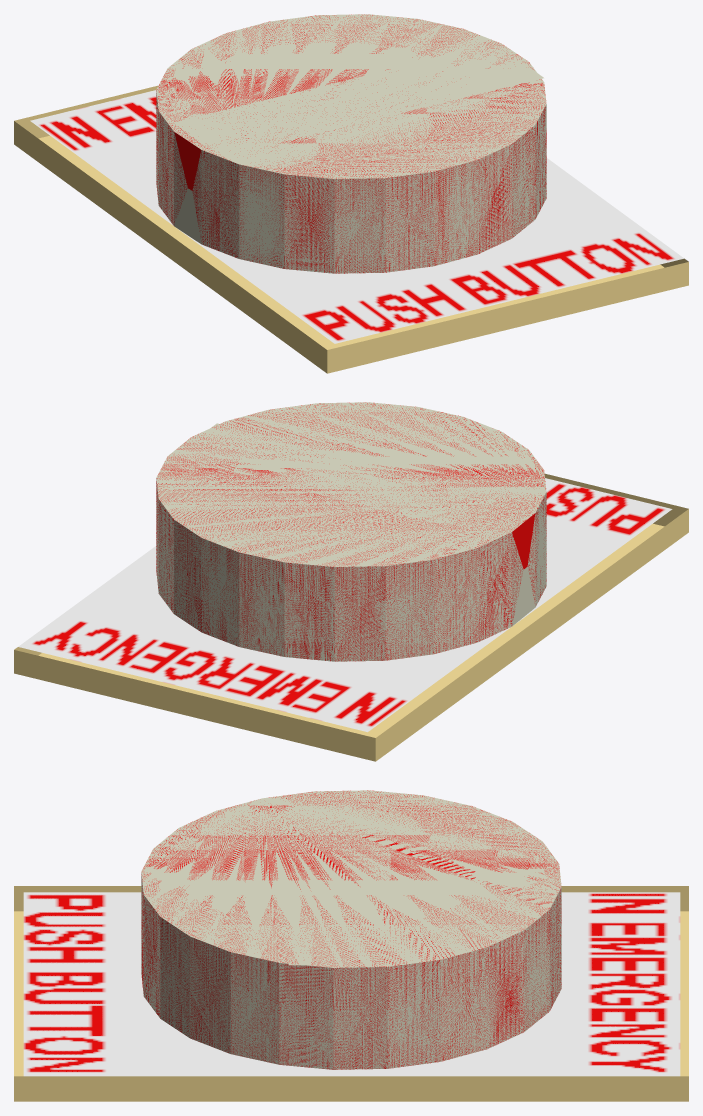
Rendered from openbutton.dae.
The picture shows the model from 3 angles, top to bottom: view 1: azimuth 30°, elevation 25°; view 2: azimuth 150°, elevation 25°; view 3: azimuth 270°, elevation 25°; orthographic projection. The views are drawn at different scales.
Parts seen in each view (by area): view 1: Panic_Button (×2), image_1, image_0; view 2: Panic_Button (×2), image_1, image_0; view 3: Panic_Button (×2), image_1, image_0.
Part boxes in pixels (<box>): Panic_Button (×2): <box>14,14,688,373</box>; image_1: <box>30,90,683,343</box>; image_0: <box>173,43,543,156</box>; Panic_Button (×2): <box>14,402,688,761</box>; image_1: <box>18,478,672,732</box>; image_0: <box>189,423,531,536</box>; Panic_Button (×2): <box>14,790,688,1101</box>; image_1: <box>23,892,680,1076</box>; image_0: <box>288,795,390,965</box>.
Bounding box in the file's own units: 2 × 3 × 0.625.
Materials: 4 (1 with a texture image).
